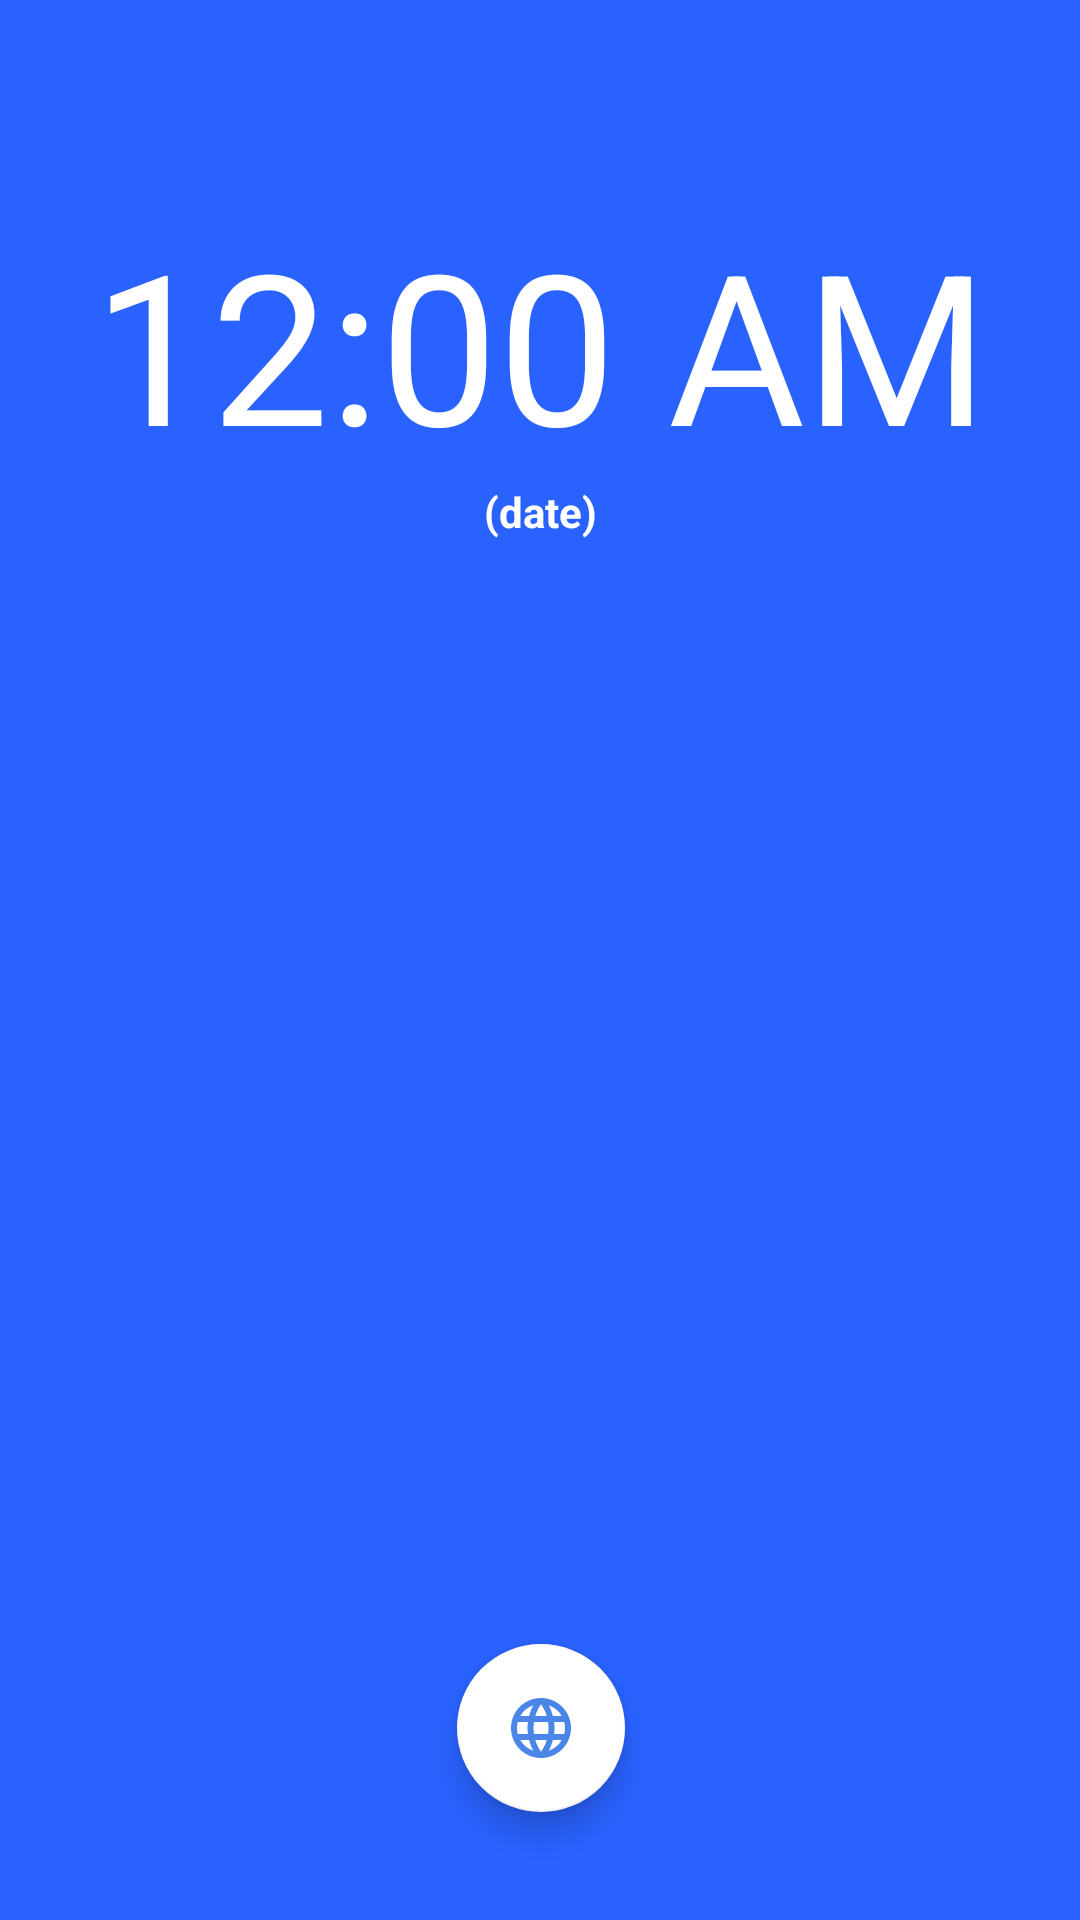

Icon click points for this 1080x1920 phone screenshot, format point (x, y):
language: point (541, 1728)
